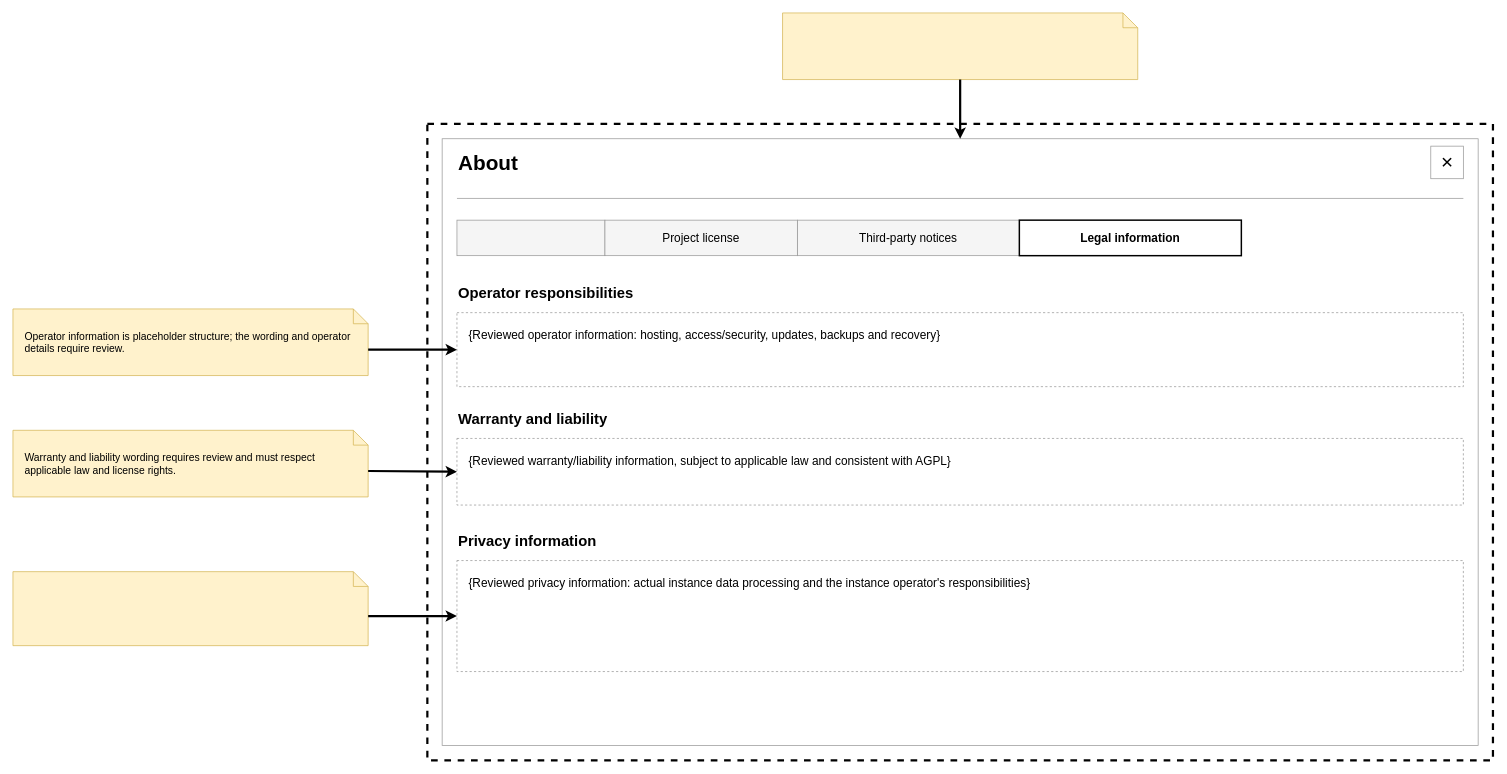
The diagram is 1507 pixels wide and 774 high, and some of its shapes have lost their labels. Each missing label, with the box of its shape:
[device: phone] Full-screen, single-column content with reachable tabs.: (782, 12, 1138, 80)
Local processing and operator responsibilities require review.: (12, 571, 368, 646)
Overview: (456, 219, 605, 256)
